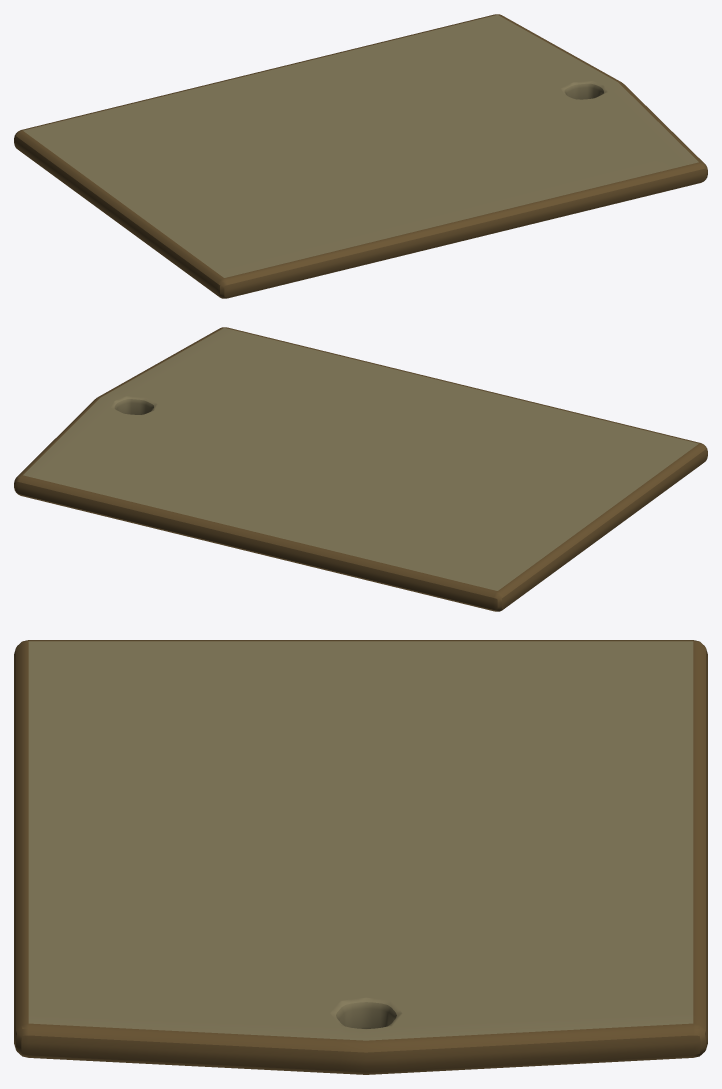
File: cuttingBoard.fbx
The picture shows the model from 3 angles, top to bottom: view 1: azimuth 30°, elevation 25°; view 2: azimuth 150°, elevation 25°; view 3: azimuth 270°, elevation 25°; orthographic projection. The views are drawn at different scales.
Visible parts, largest first — view 1: CuttingBoard; view 2: CuttingBoard; view 3: CuttingBoard.
Boxes of the visible parts, left/top/right/bottom form: CuttingBoard: left=14, top=14, right=707, bottom=298; CuttingBoard: left=14, top=327, right=707, bottom=611; CuttingBoard: left=14, top=640, right=707, bottom=1074.
Bounding box in the file's own units: 26.73 × 1 × 19.05.
